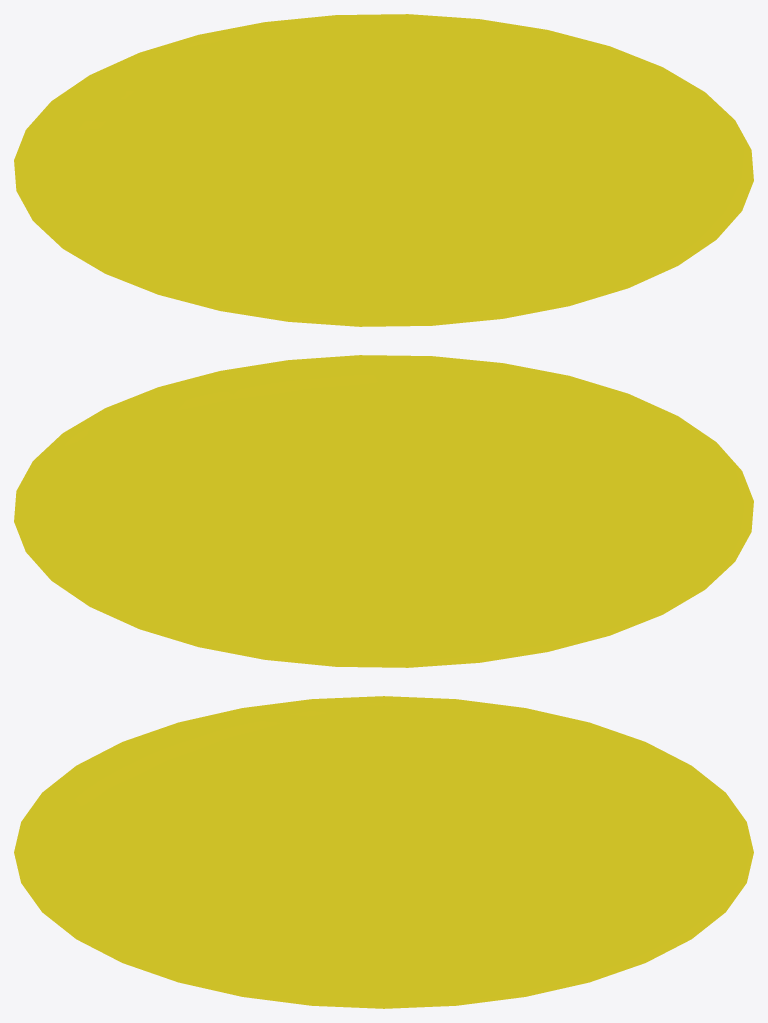
The model's file is 6toptestonly.fbx.
3 views of the same model, one above another, from view 1: azimuth 30°, elevation 25°; view 2: azimuth 150°, elevation 25°; view 3: azimuth 270°, elevation 25° (orthographic).
Visible parts, largest first — view 1: Surface; view 2: Surface; view 3: Surface.
Part boxes in pixels (x1=…): Surface: x1=14, y1=14, x2=753, y2=326; Surface: x1=14, y1=355, x2=753, y2=667; Surface: x1=14, y1=696, x2=753, y2=1008.
Size of the model in its own units: 1.99 by 0.00014 by 1.99.
